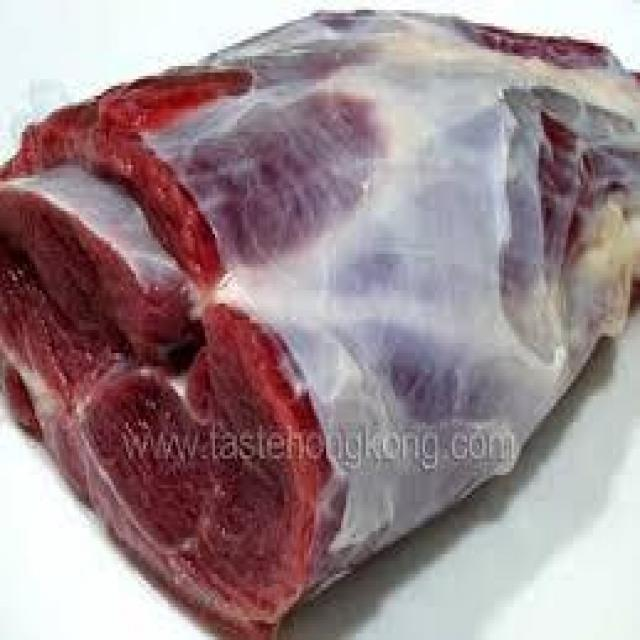beef: (5, 0, 640, 411)
